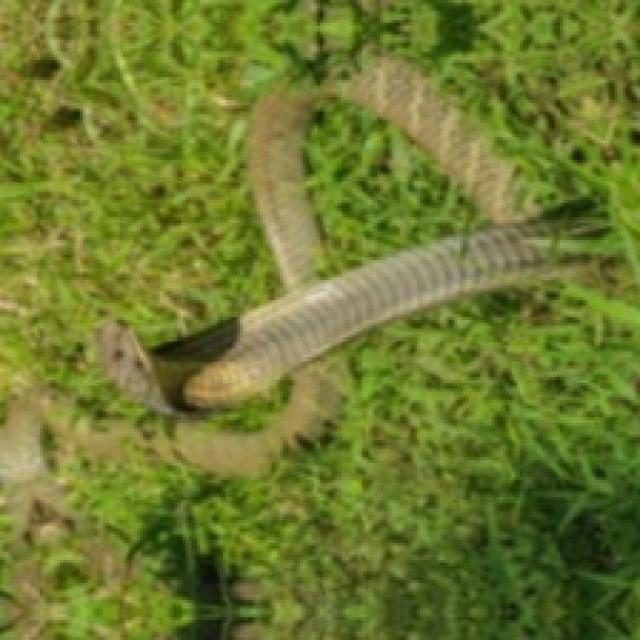king cobra: (97, 49, 554, 474), (123, 54, 549, 411), (300, 94, 494, 286), (300, 94, 491, 283)
